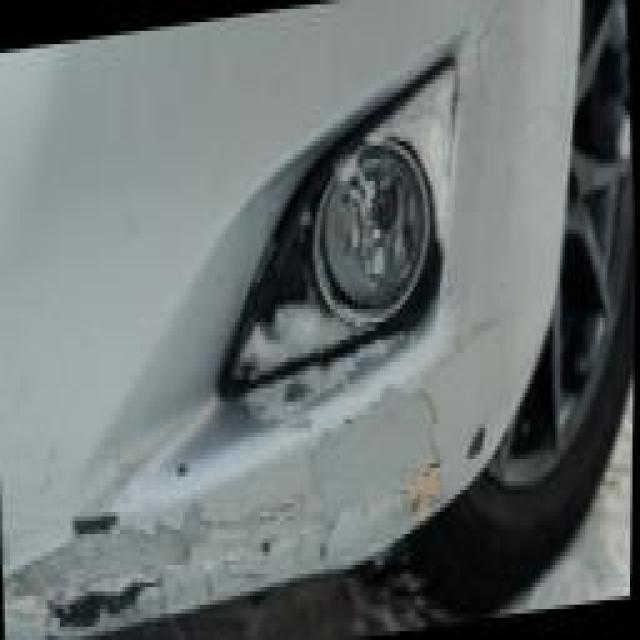Bumper: (0, 0, 578, 640)
